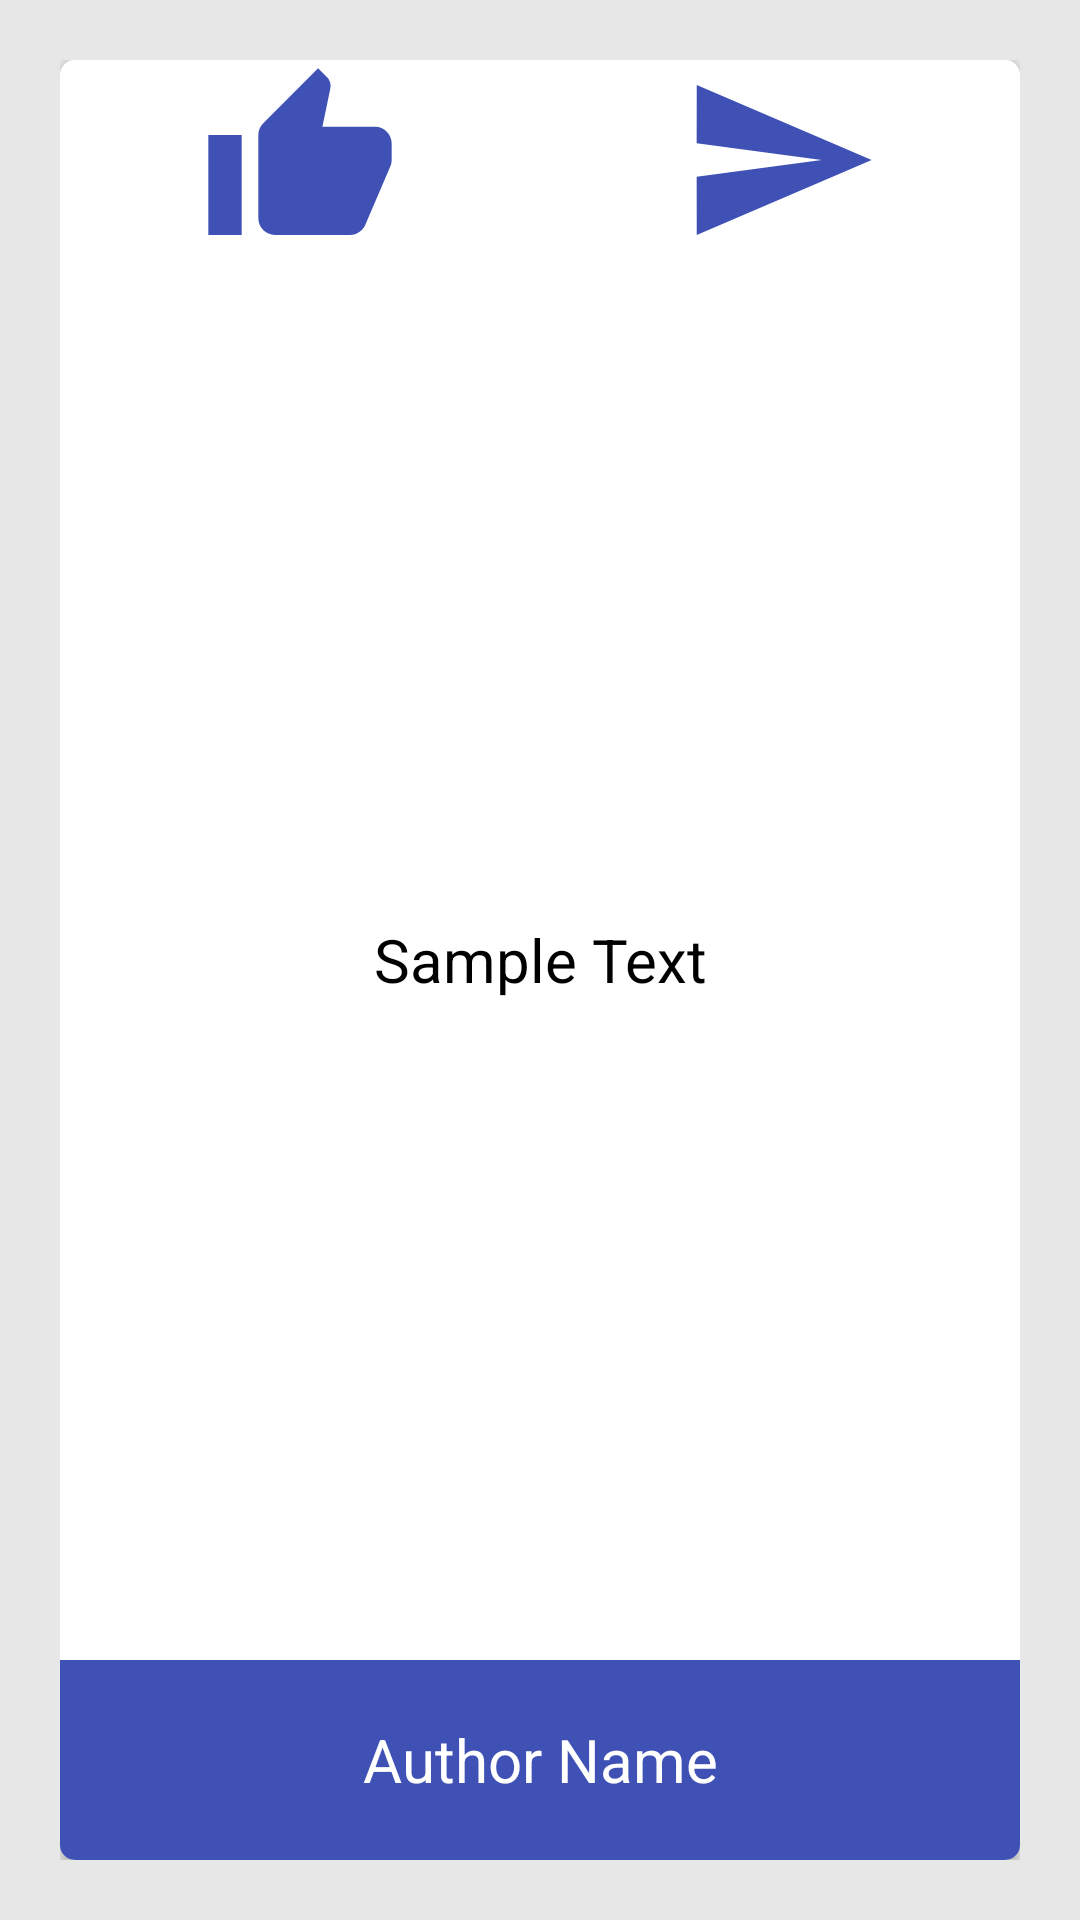

Where to tap for icons on this 1080px×1920px app screen, as point (x, y):
send: point (858, 147)
thumb: point (226, 147)
